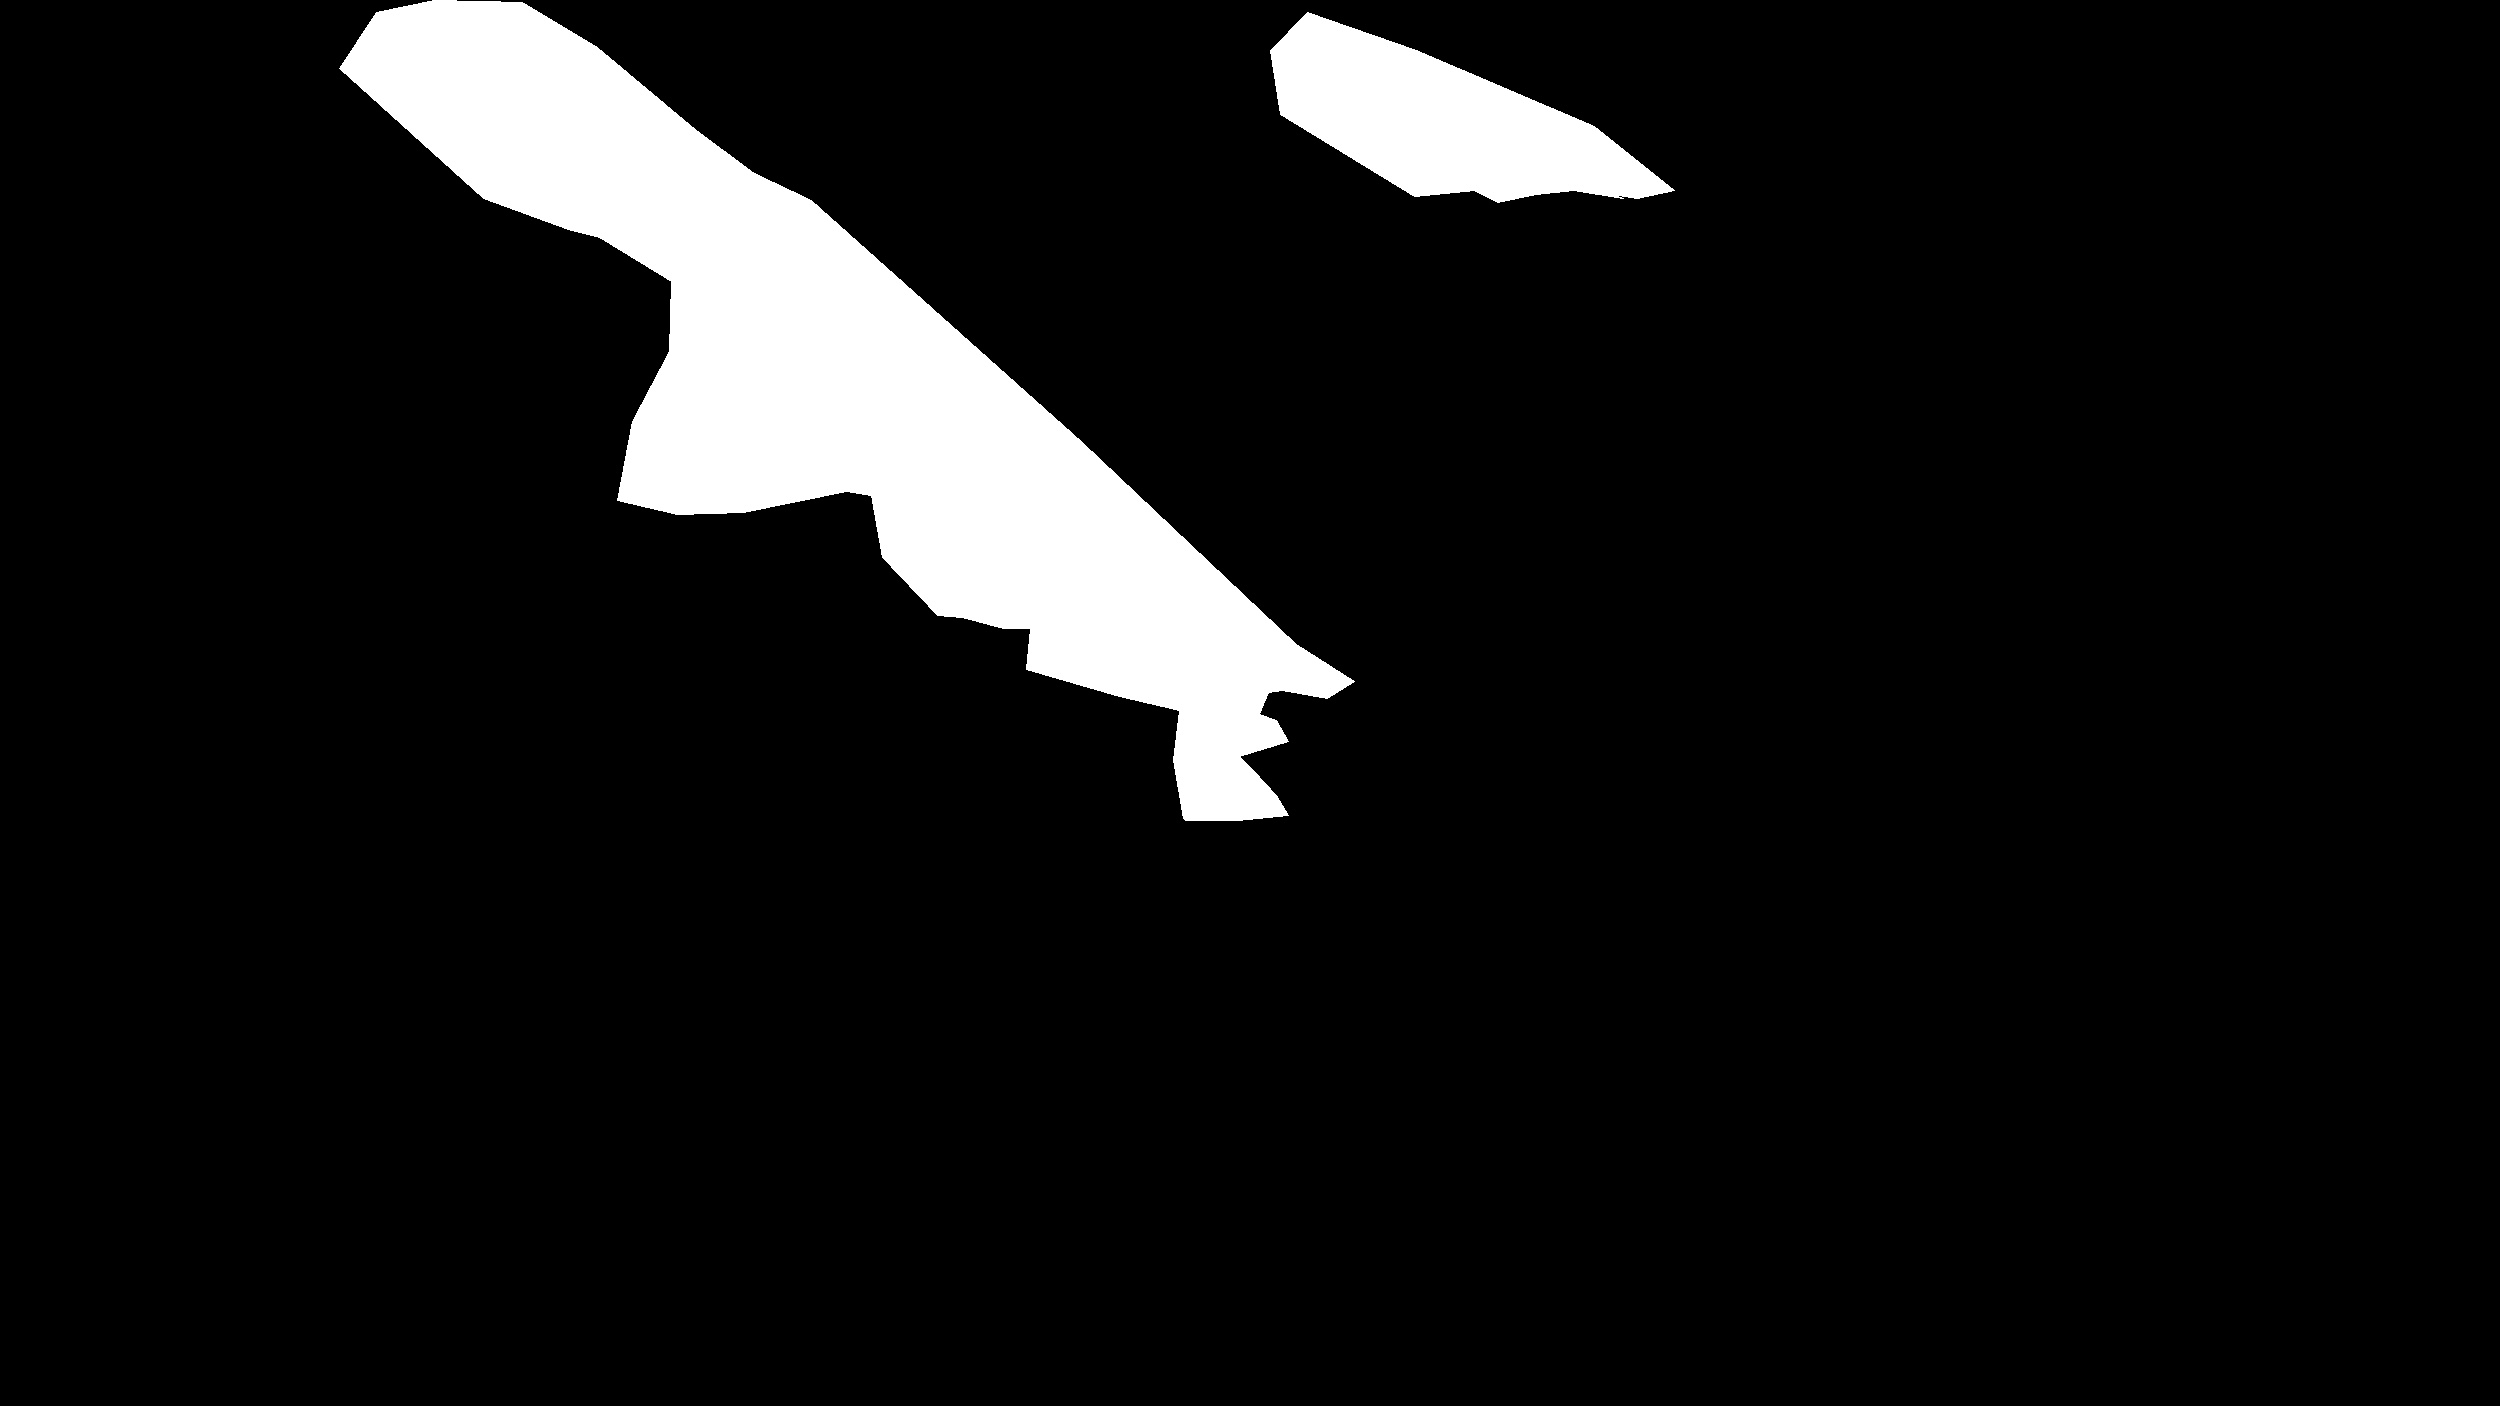Fire: (410, 55, 1394, 827), (1253, 22, 1746, 314)
